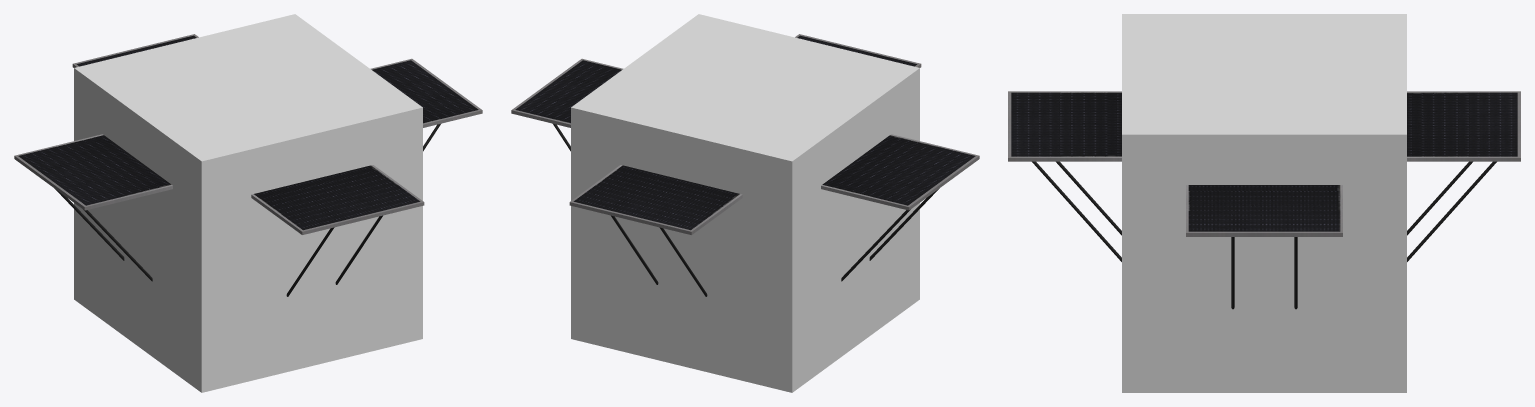
The picture shows the model from 3 angles, left to right: view 1: azimuth 30°, elevation 25°; view 2: azimuth 150°, elevation 25°; view 3: azimuth 270°, elevation 25°; orthographic projection. The views are drawn at different scales.
Parts seen in each view (by area): view 1: _root, shiny_panel, tex_01, black_krinkle; view 2: _root, shiny_panel, tex_01, black_krinkle; view 3: _root, shiny_panel, tex_01, black_krinkle.
Part boxes in pixels (x1,y1,x2,y2): _root: (74, 14, 422, 392); shiny_panel: (18, 35, 478, 230); tex_01: (14, 34, 482, 234); black_krinkle: (54, 124, 440, 296); _root: (571, 14, 919, 392); shiny_panel: (515, 35, 975, 230); tex_01: (511, 34, 979, 234); black_krinkle: (553, 124, 939, 296); _root: (1122, 14, 1406, 392); shiny_panel: (1011, 92, 1517, 231); tex_01: (1008, 91, 1520, 236); black_krinkle: (1032, 161, 1496, 309).
Bounding box in the file's own units: 1.8 × 1.8 × 1.
4 materials, 2 textured.
